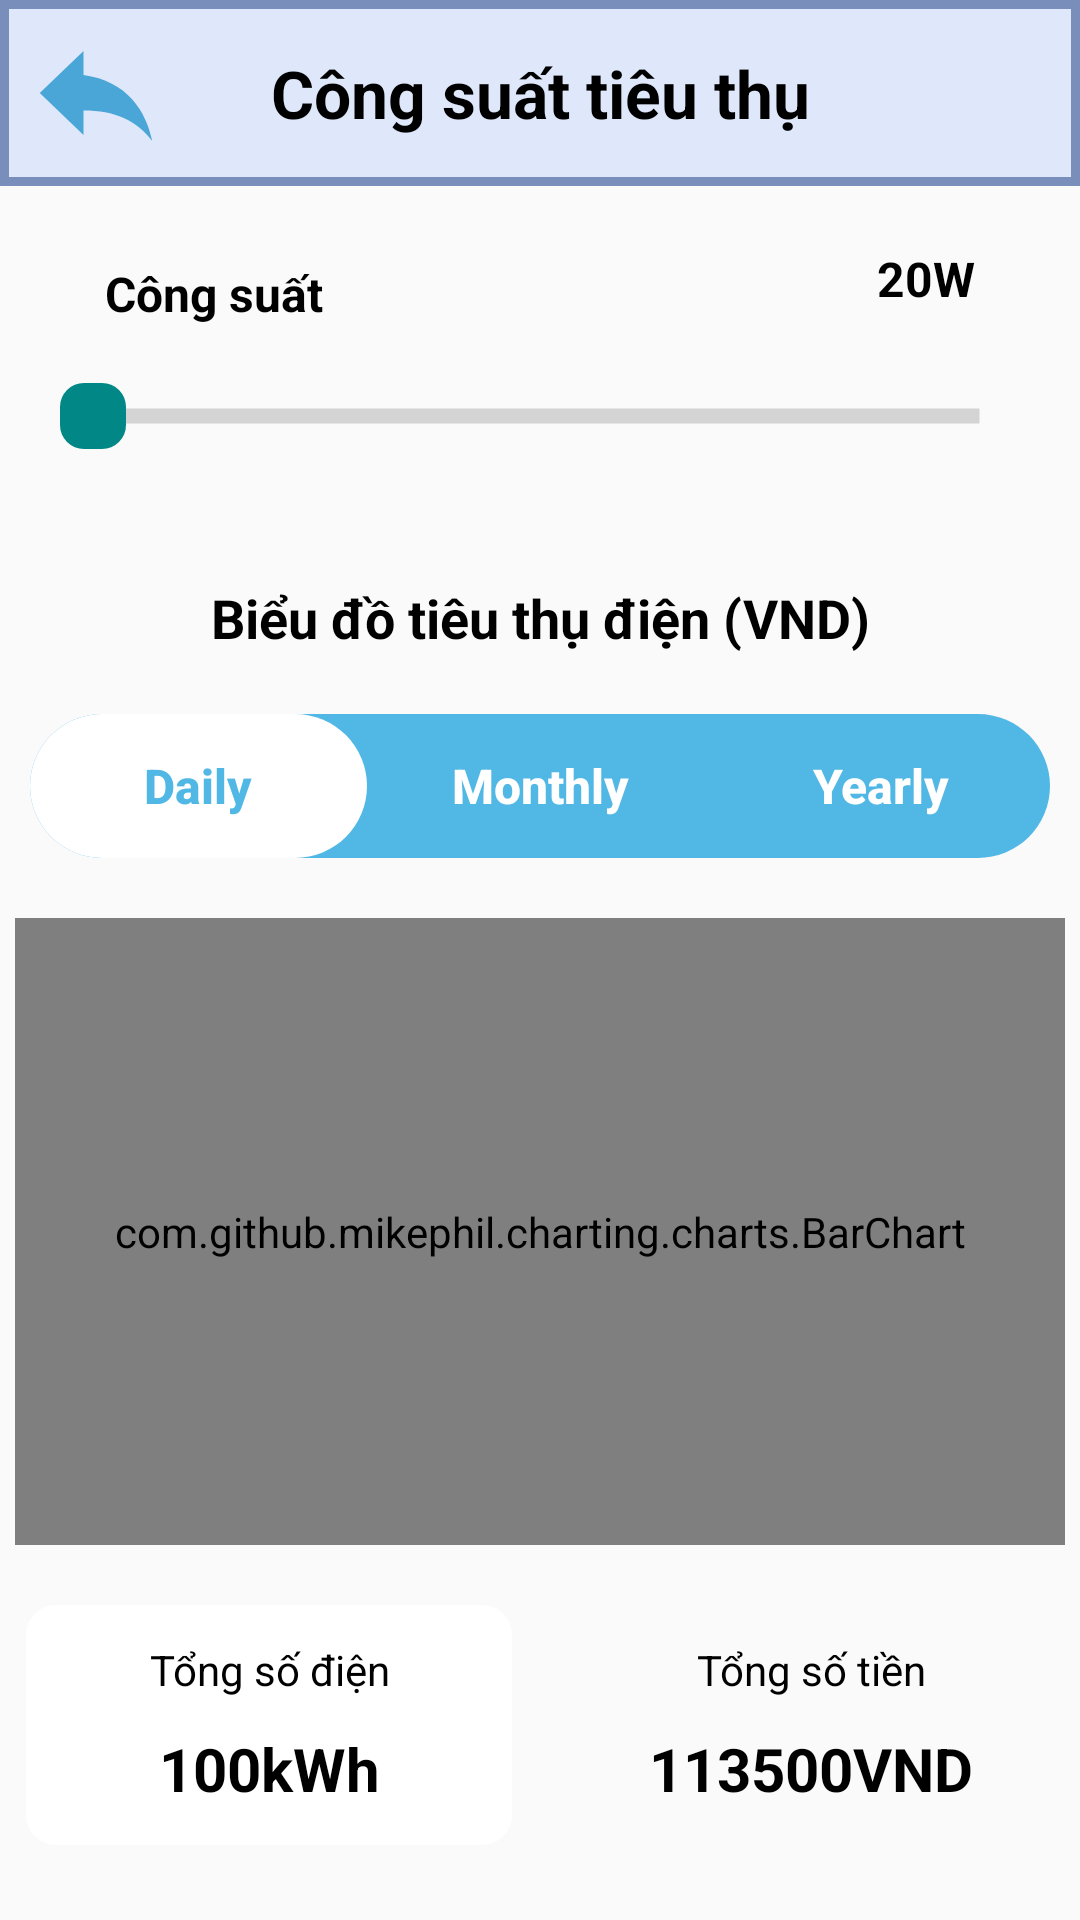

Icon bounding boxes for this 1080w x 1920h phone screenshot, format BBox(x1, y1, x2, y2):
back: BBox(40, 51, 152, 141)
